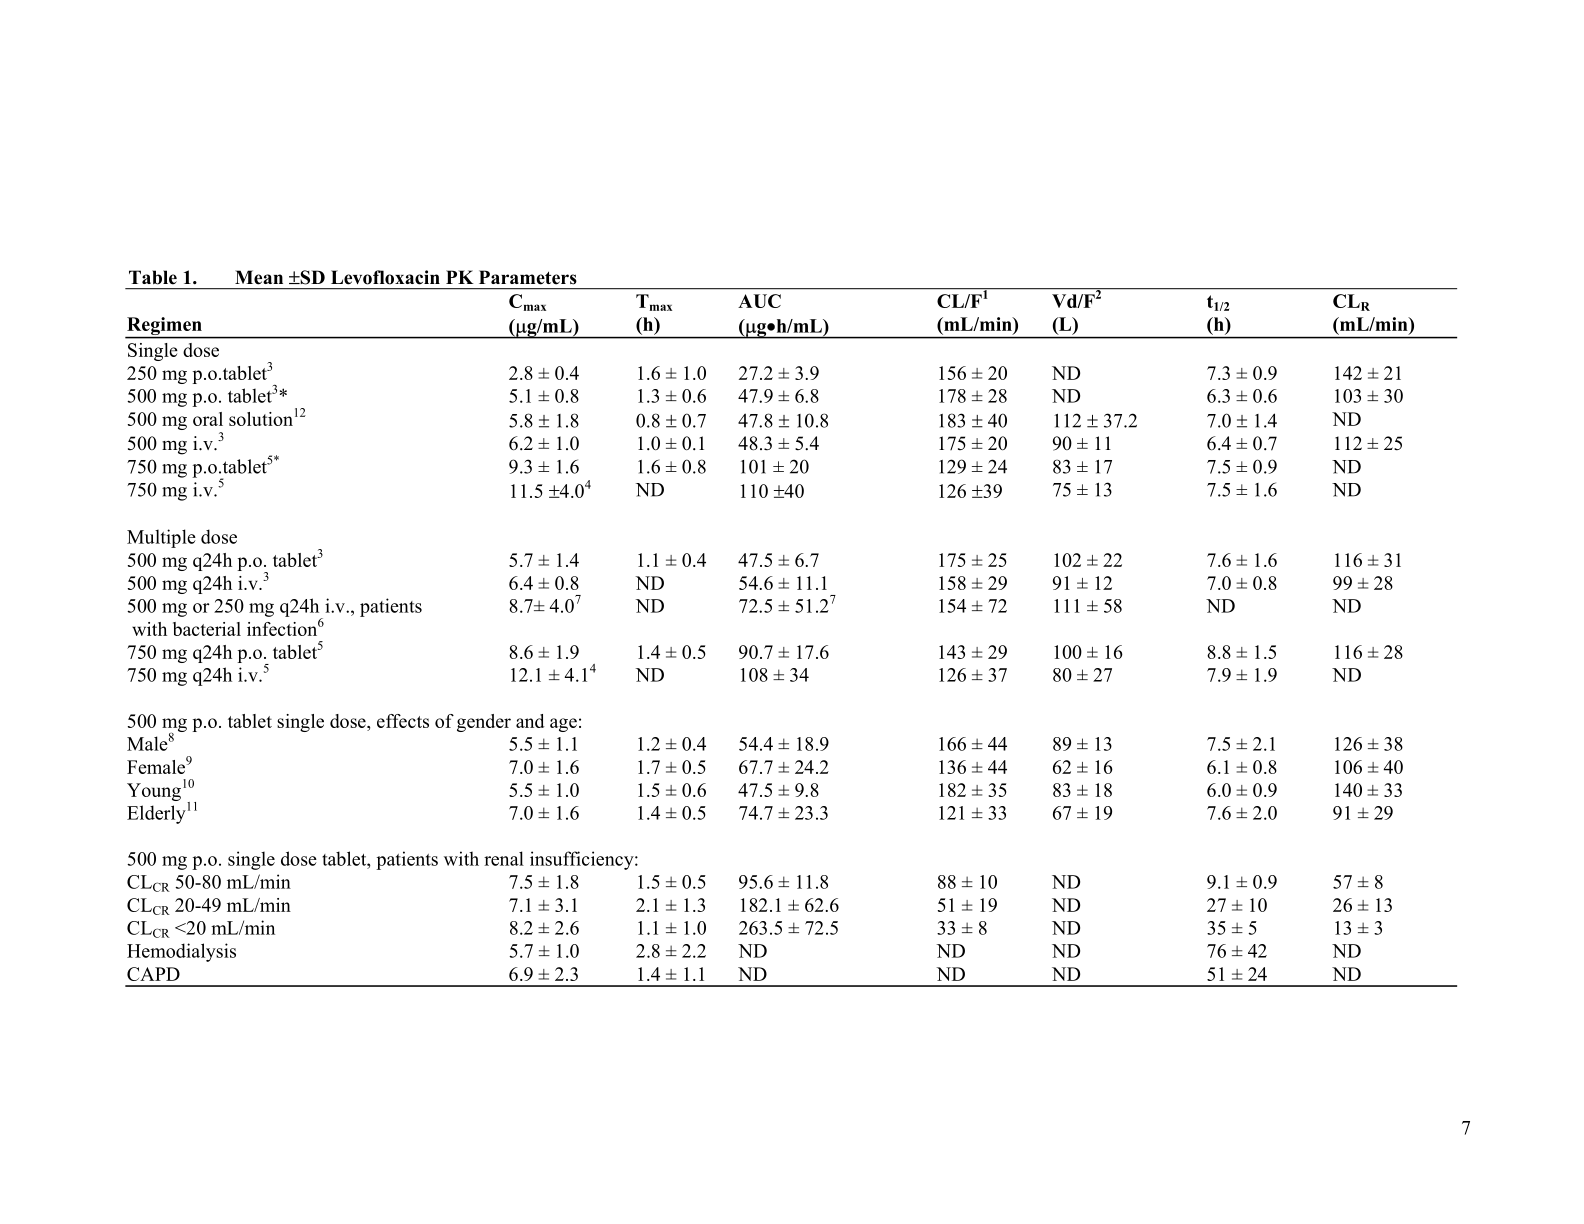partial_lined_merged_cells: (122, 285, 1455, 991)
